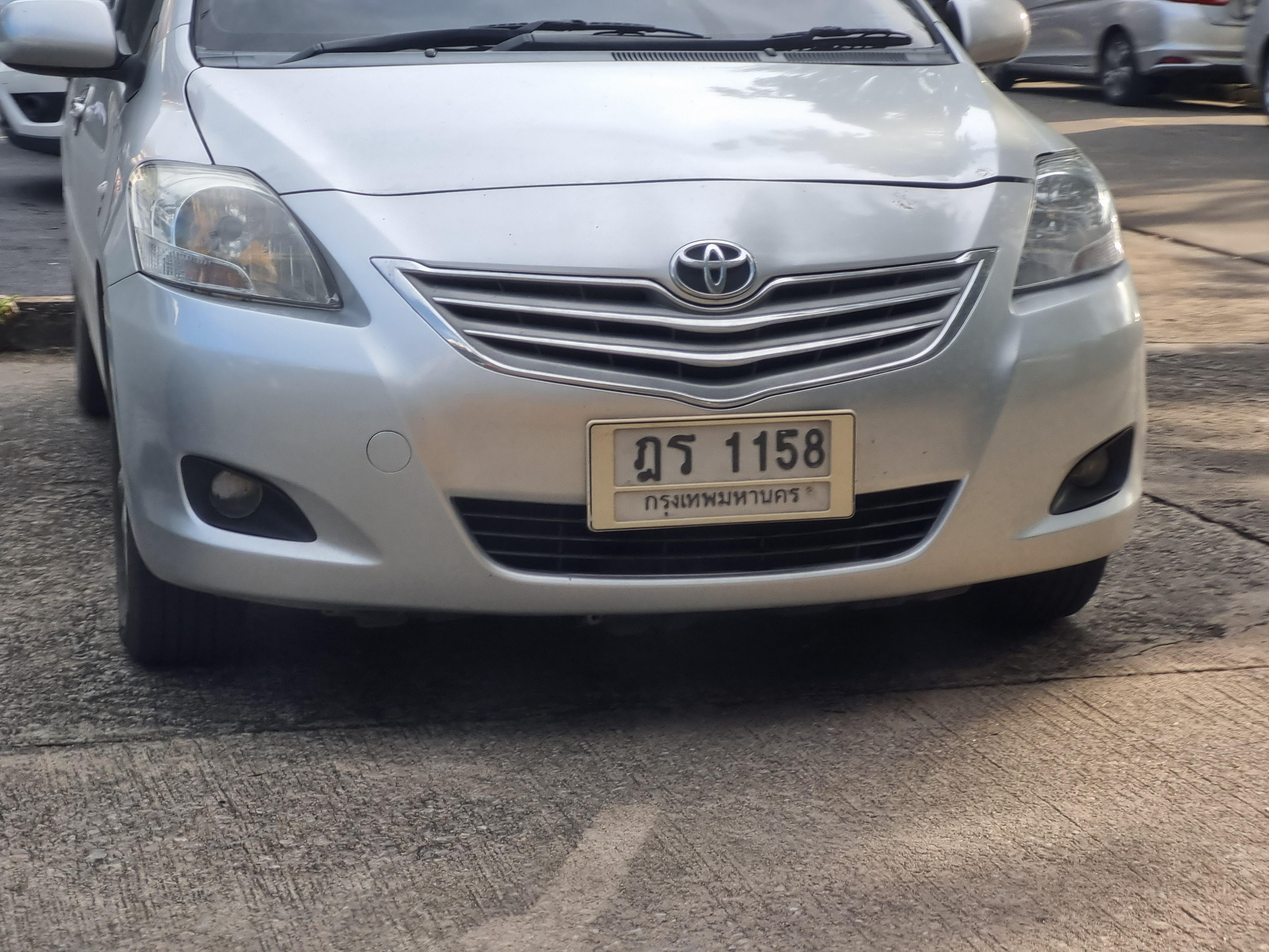license-plate: (584, 405, 867, 539)
